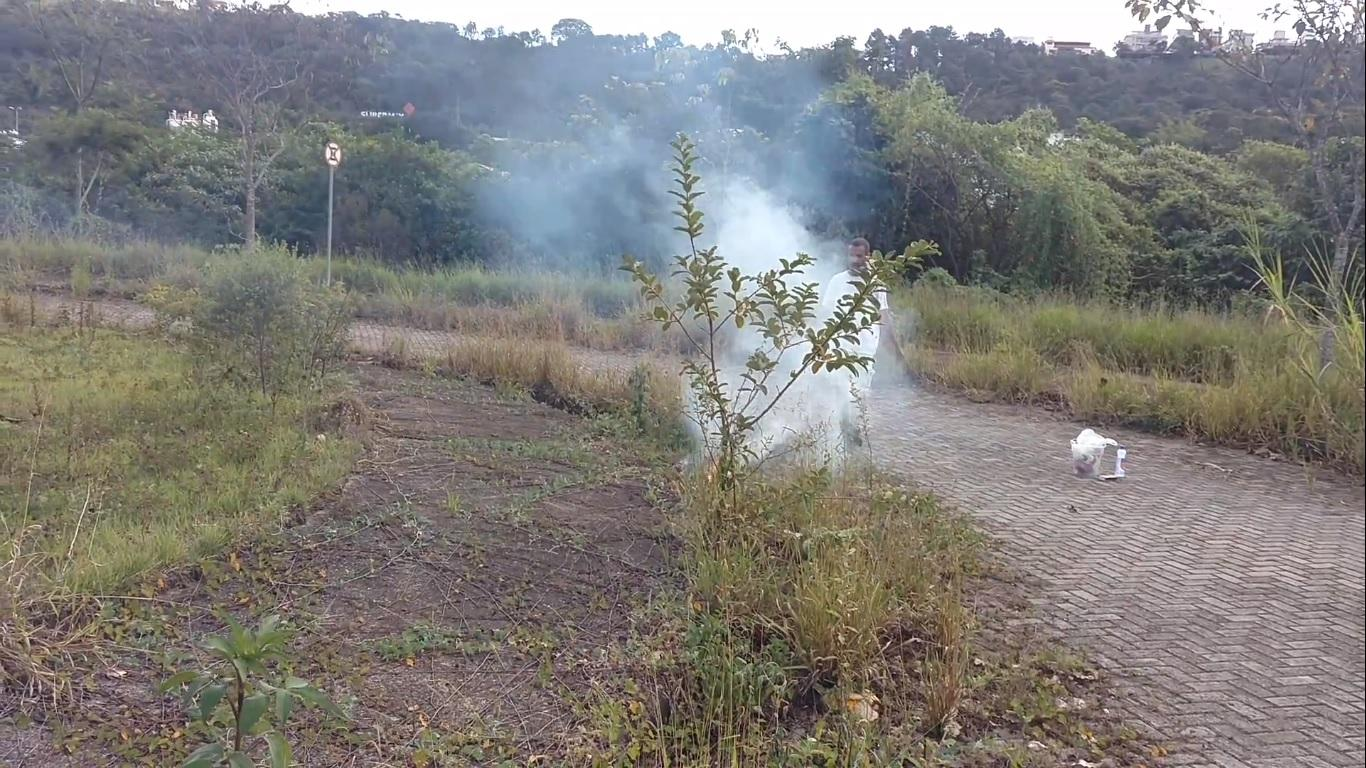smoke: (708, 142, 830, 260)
